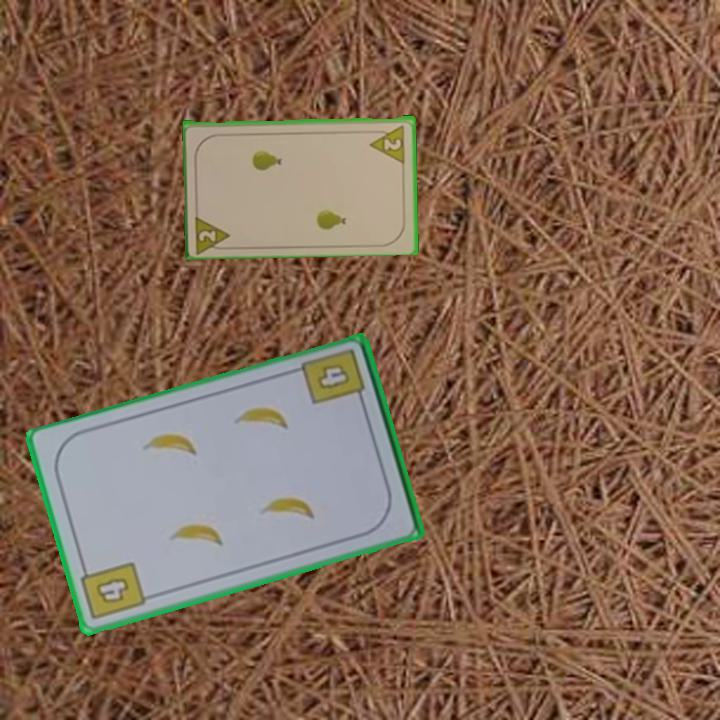2p: (192, 210, 234, 254), (367, 121, 408, 164)
4b: (77, 558, 149, 624), (298, 345, 369, 409)
